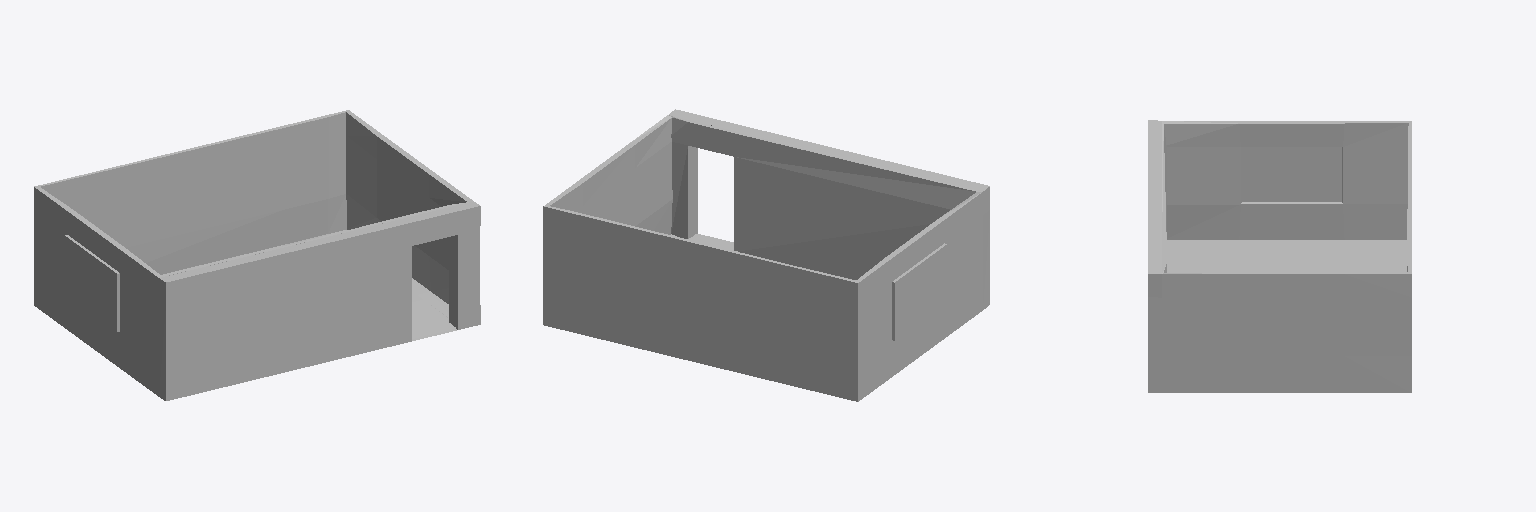
The model's file is mr_walls.obj.
3 renders of one model, left to right at view 1: azimuth 30°, elevation 25°; view 2: azimuth 150°, elevation 25°; view 3: azimuth 270°, elevation 25°, orthographic.
Visible parts, largest first — view 1: Toy_Room_Plane; view 2: Toy_Room_Plane; view 3: Toy_Room_Plane.
Boxes of the visible parts, box(x1,y1,x2,y2) form: Toy_Room_Plane: box(34, 110, 480, 400); Toy_Room_Plane: box(543, 109, 989, 401); Toy_Room_Plane: box(1148, 120, 1411, 392).
Size of the model in its own units: 28.25 by 10.14 by 20.31.